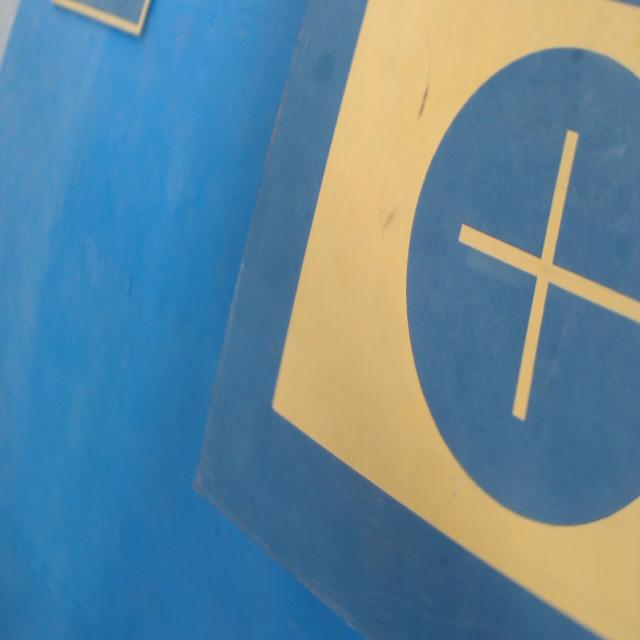base_inicio: (271, 0, 640, 639)
base_pouso: (50, 0, 153, 39)
